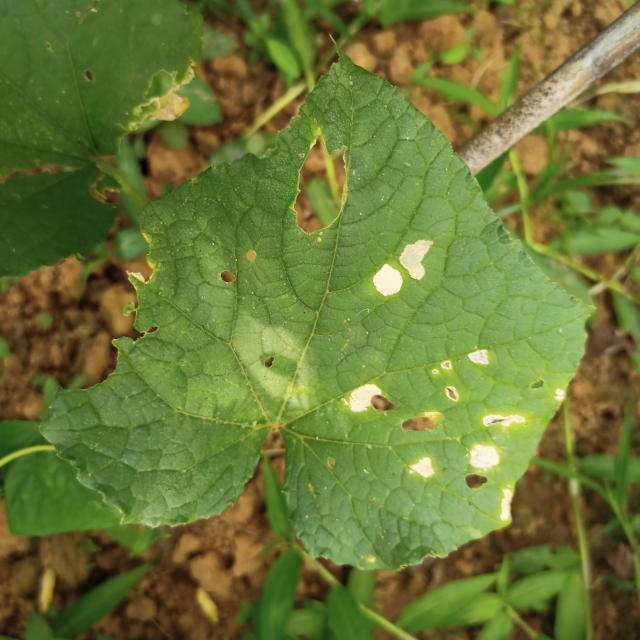disease_cucumber: (349, 348, 523, 523), (373, 238, 432, 294)
